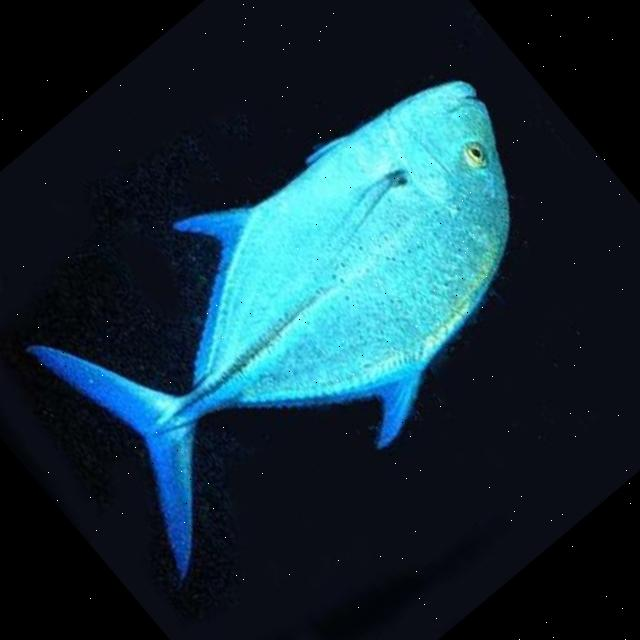ikan: (0, 13, 619, 609)
